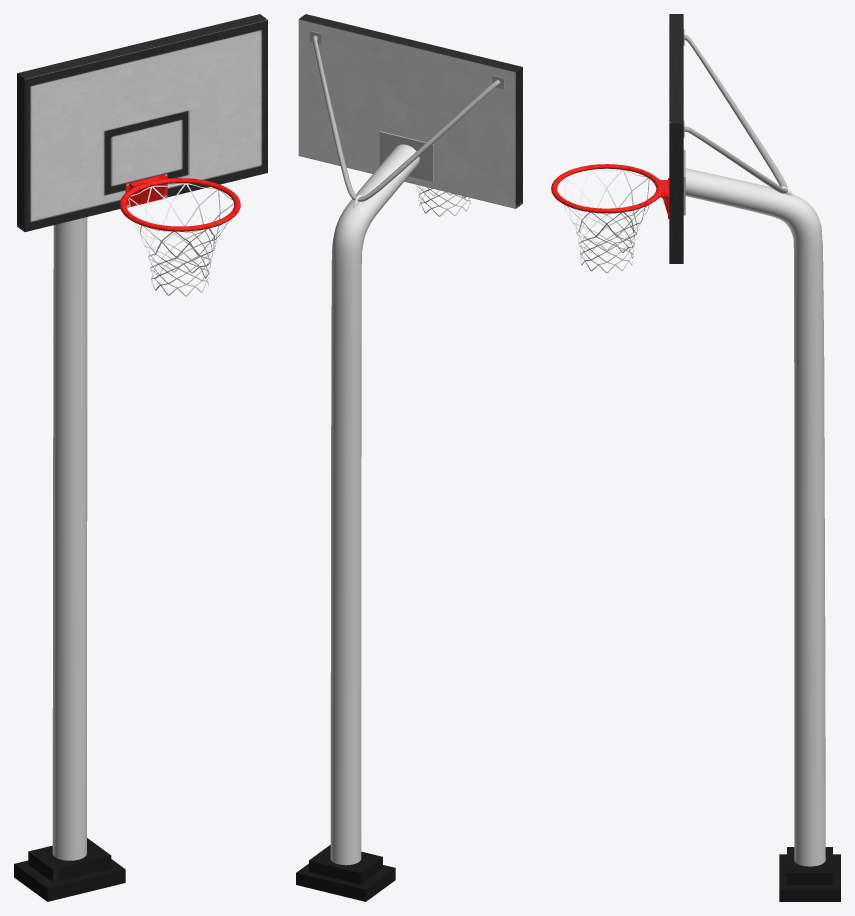
File: basket.fbx
3 views of the same model, side by side, from view 1: azimuth 30°, elevation 25°; view 2: azimuth 150°, elevation 25°; view 3: azimuth 270°, elevation 25° (orthographic). The views are drawn at different scales.
Parts seen in each view (by area): view 1: BasktBallBasket Optimized; view 2: BasktBallBasket Optimized; view 3: BasktBallBasket Optimized.
Boxes of the visible parts, bbox=[...] form: BasktBallBasket Optimized: bbox=[14, 14, 267, 901]; BasktBallBasket Optimized: bbox=[296, 14, 522, 901]; BasktBallBasket Optimized: bbox=[551, 14, 840, 901].
Bounding box in the file's own units: 102 × 357 × 115.
Materials: 1 (1 with a texture image).
